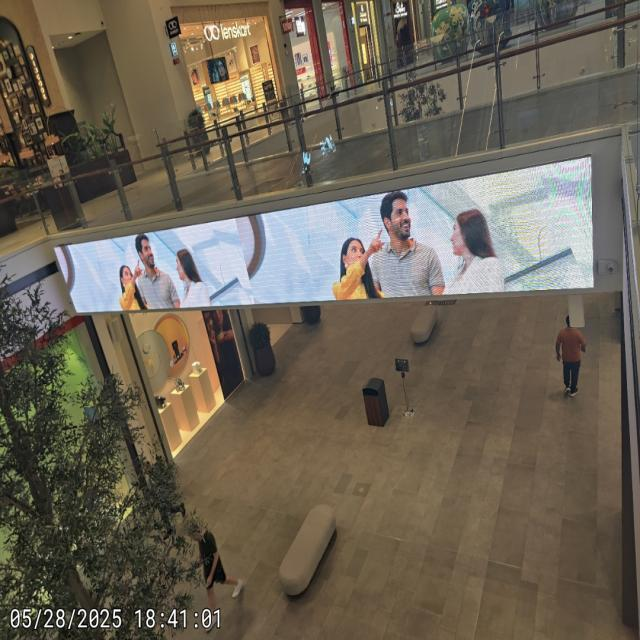rectangle-wide-board: (52, 158, 596, 315)
